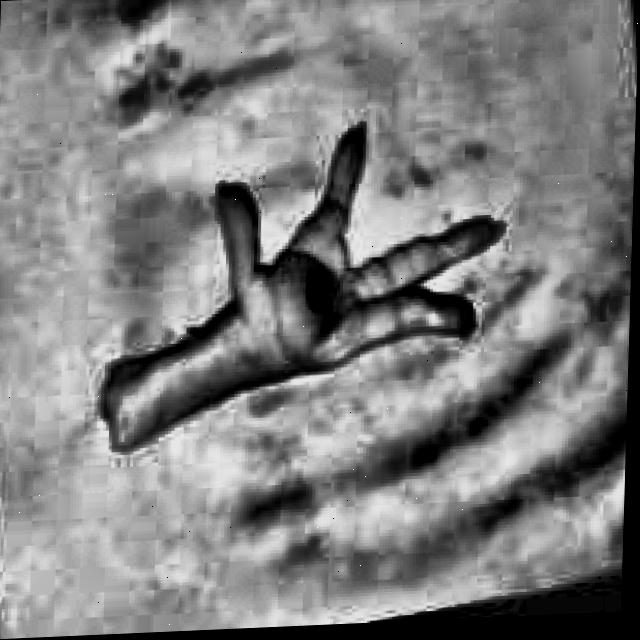Bumble foot: (98, 122, 509, 462)
